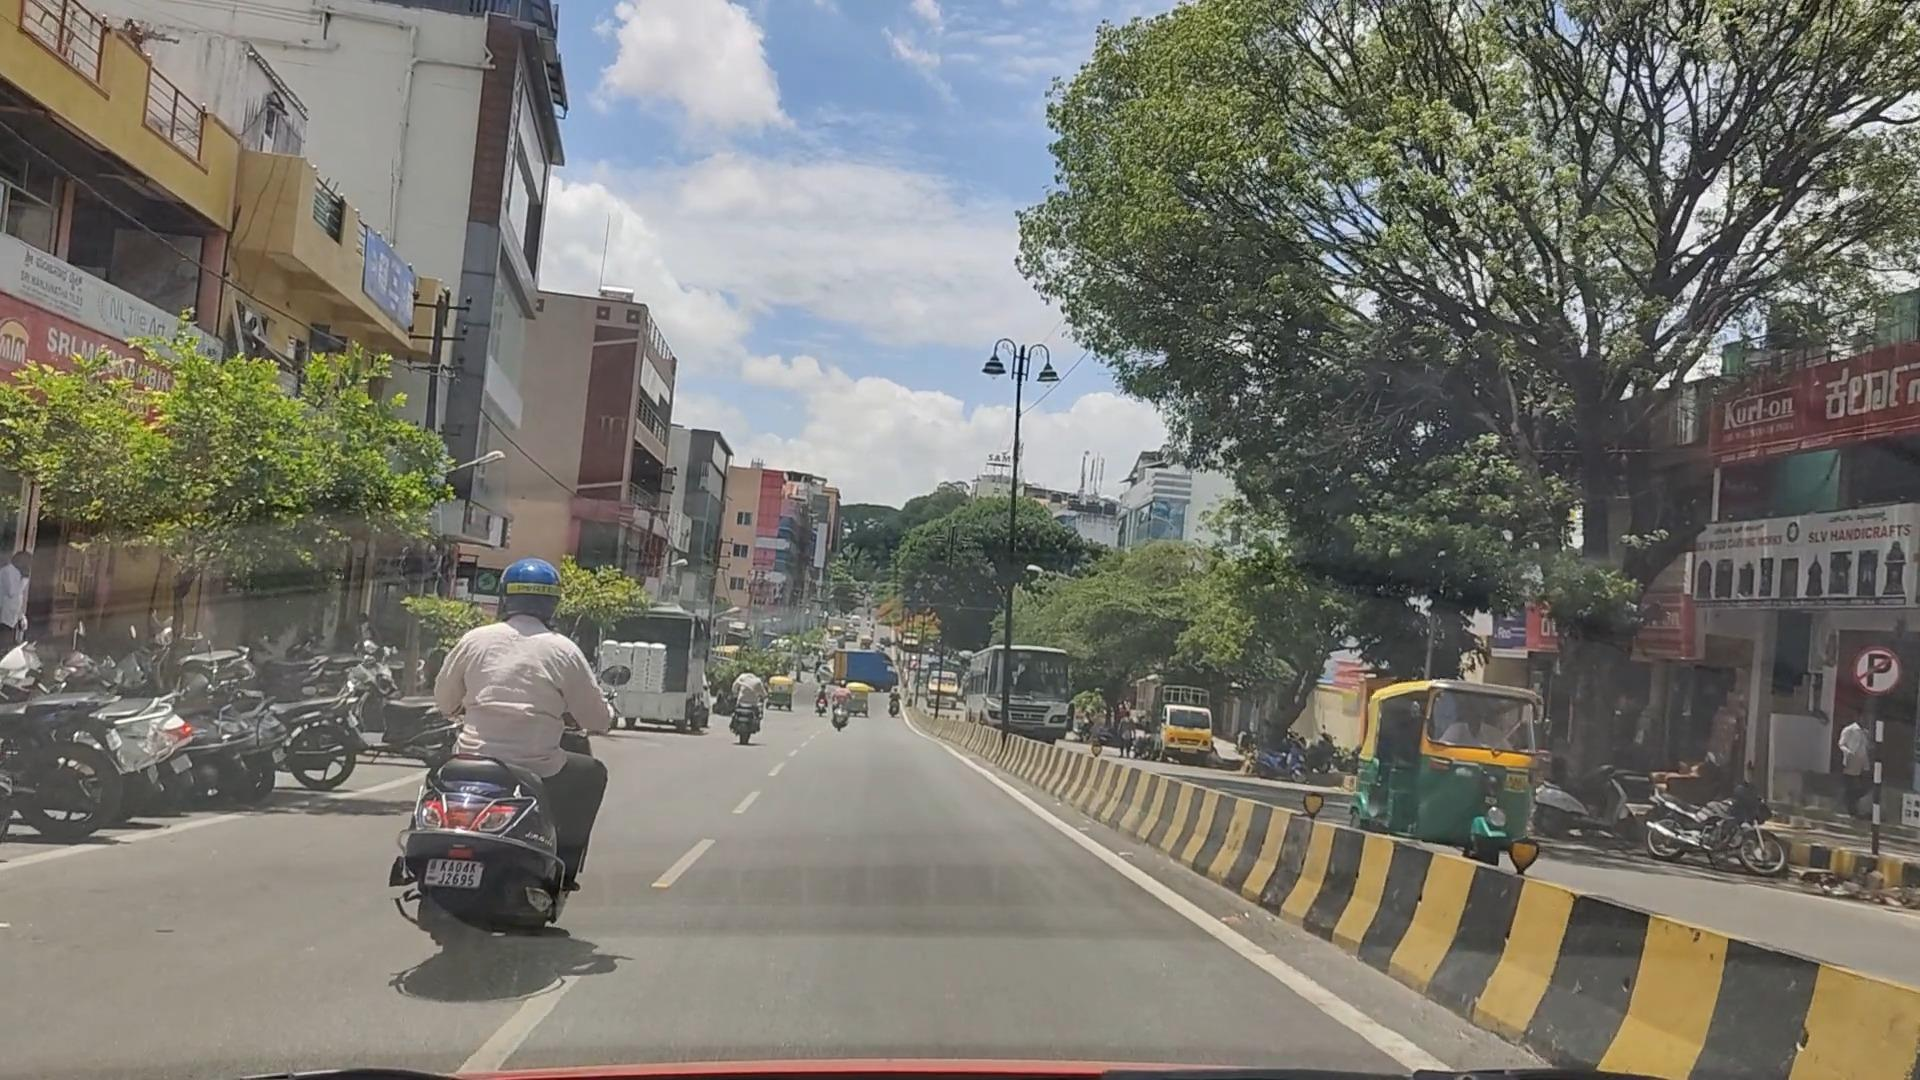LMV: (368, 546, 620, 976)
